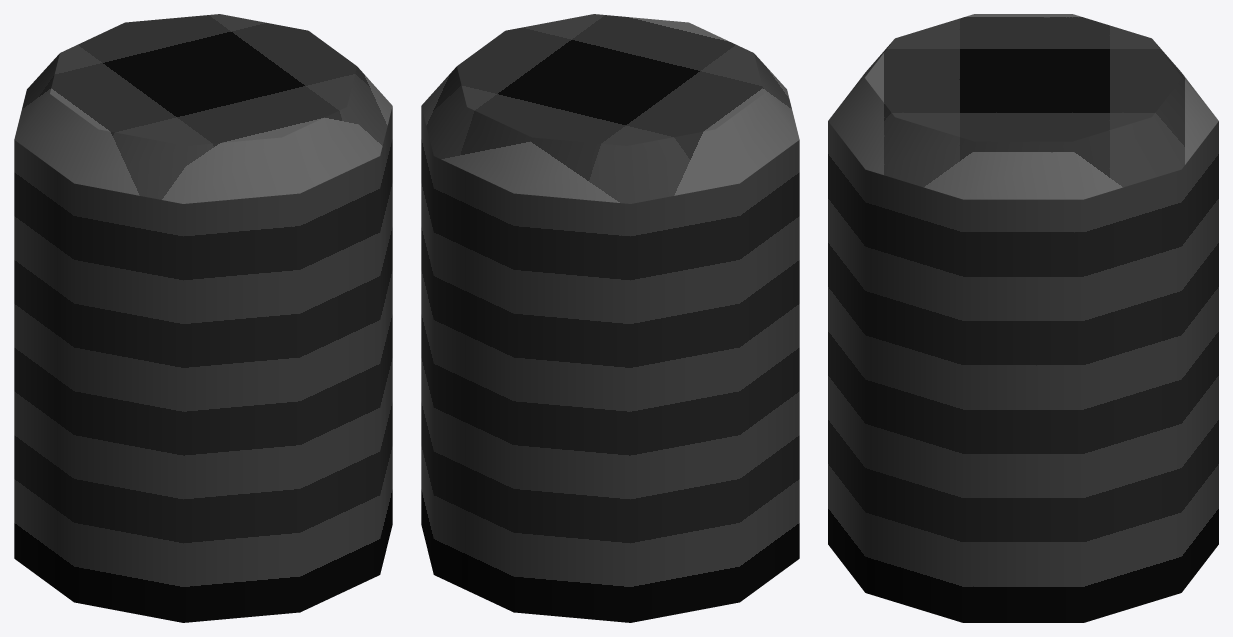
Rendered from tire_stack.obj.
3 renders of one model, left to right at view 1: azimuth 30°, elevation 25°; view 2: azimuth 150°, elevation 25°; view 3: azimuth 270°, elevation 25°, orthographic.
Parts seen in each view (by area): view 1: Tire_Stack_Cylinder; view 2: Tire_Stack_Cylinder; view 3: Tire_Stack_Cylinder.
Boxes of the visible parts, box(x1,y1,x2,y2) form: Tire_Stack_Cylinder: box(14, 14, 392, 622); Tire_Stack_Cylinder: box(421, 14, 799, 622); Tire_Stack_Cylinder: box(828, 14, 1218, 622).
Bounding box in the file's own units: 0.9511 × 1.32 × 1.
